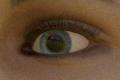eye: (40, 31, 72, 55)
